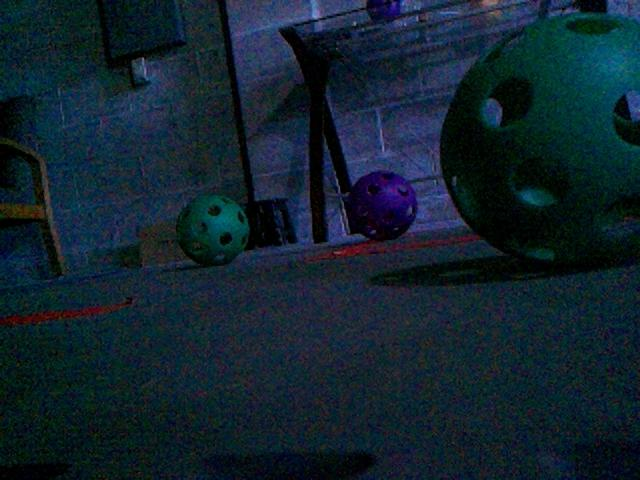Green: (437, 12, 637, 265), (174, 192, 252, 265)
Purple: (348, 169, 418, 241), (364, 0, 401, 24)
